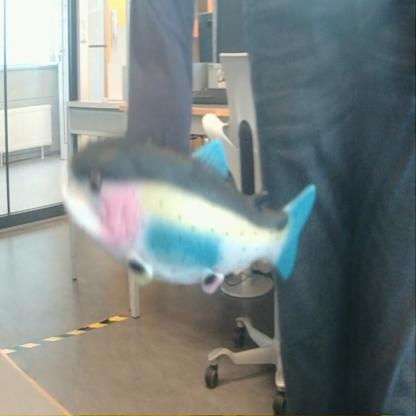rubberfish: (51, 113, 318, 297)
